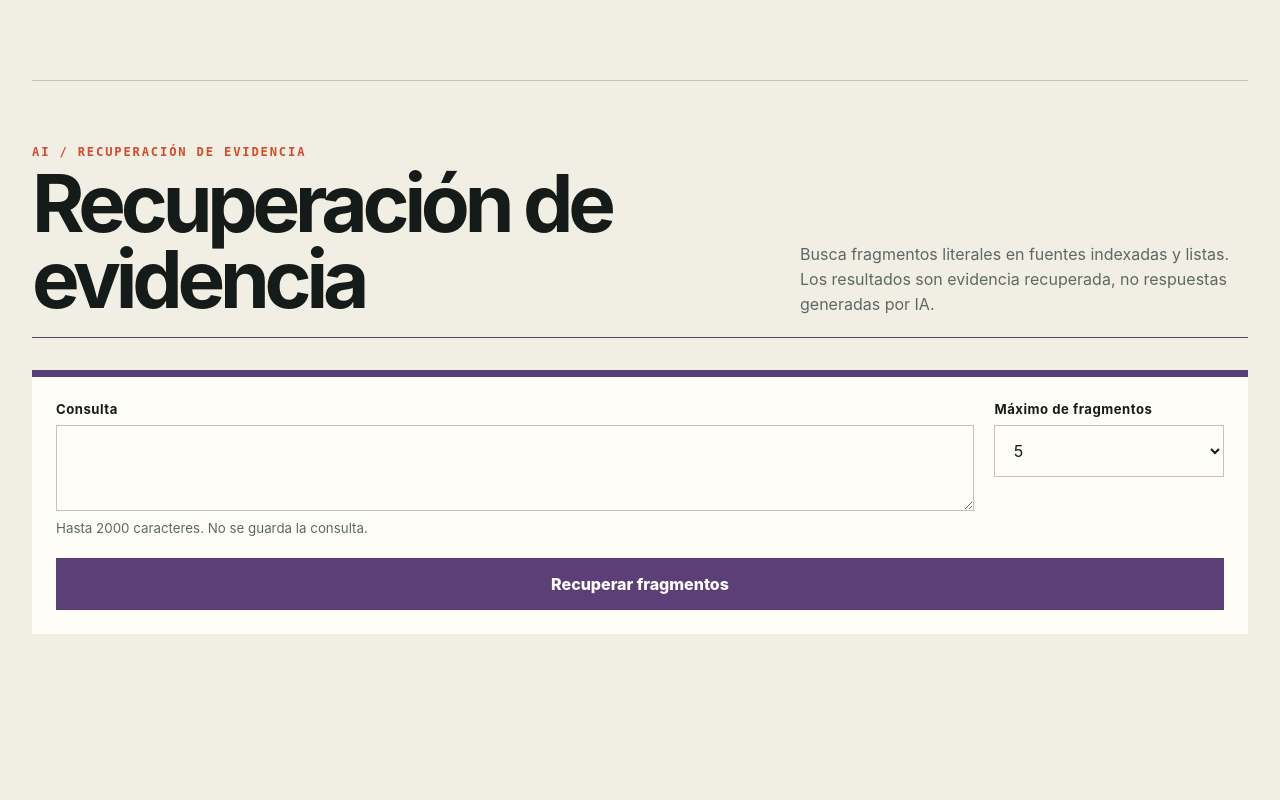
Scenario: AiRetrievalWorkspace › shows an empty state without fabricating evidence
This screenshot has width=1280, height=800.
Type "sin evidencia" into the text box labelled "Consulta" at (515, 468), box x1=56 y1=425 x2=974 y2=511
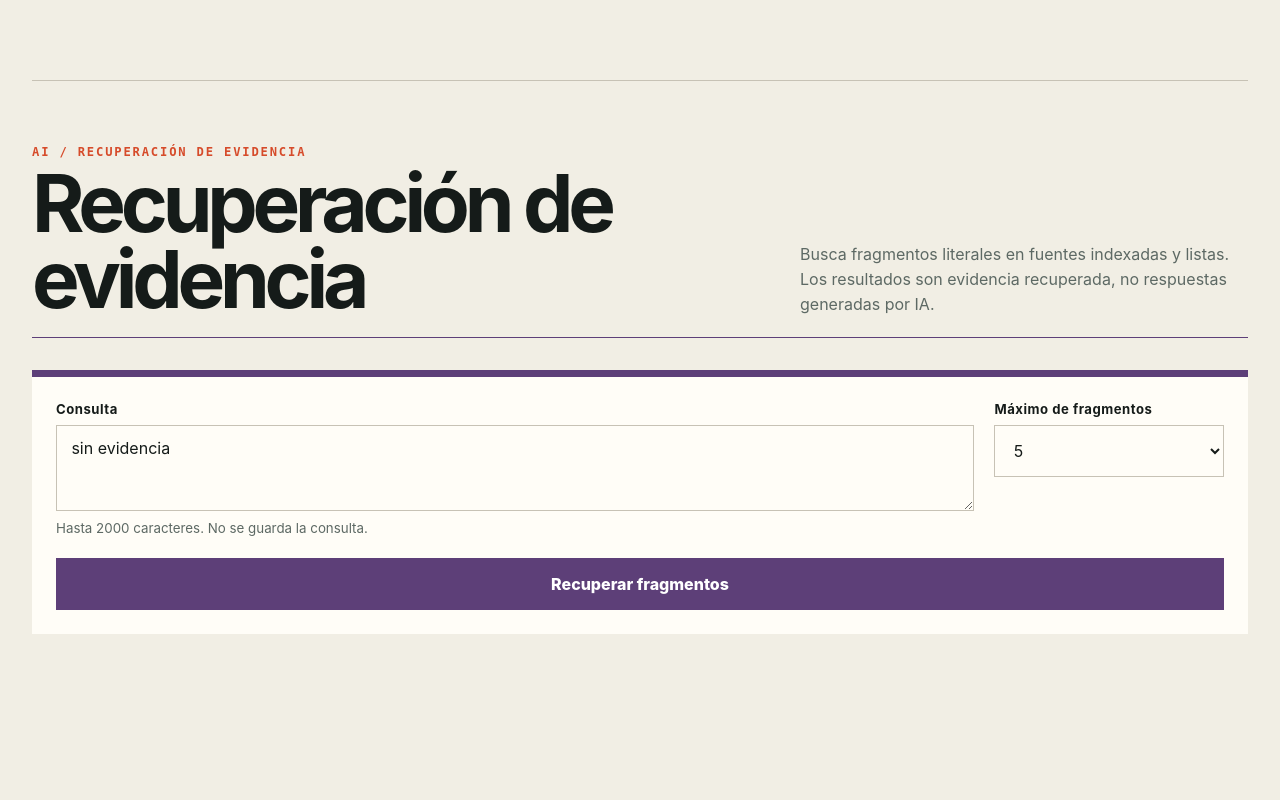
Submit the form named "Recuperar fragmentos", box x1=32 y1=370 x2=1248 y2=634
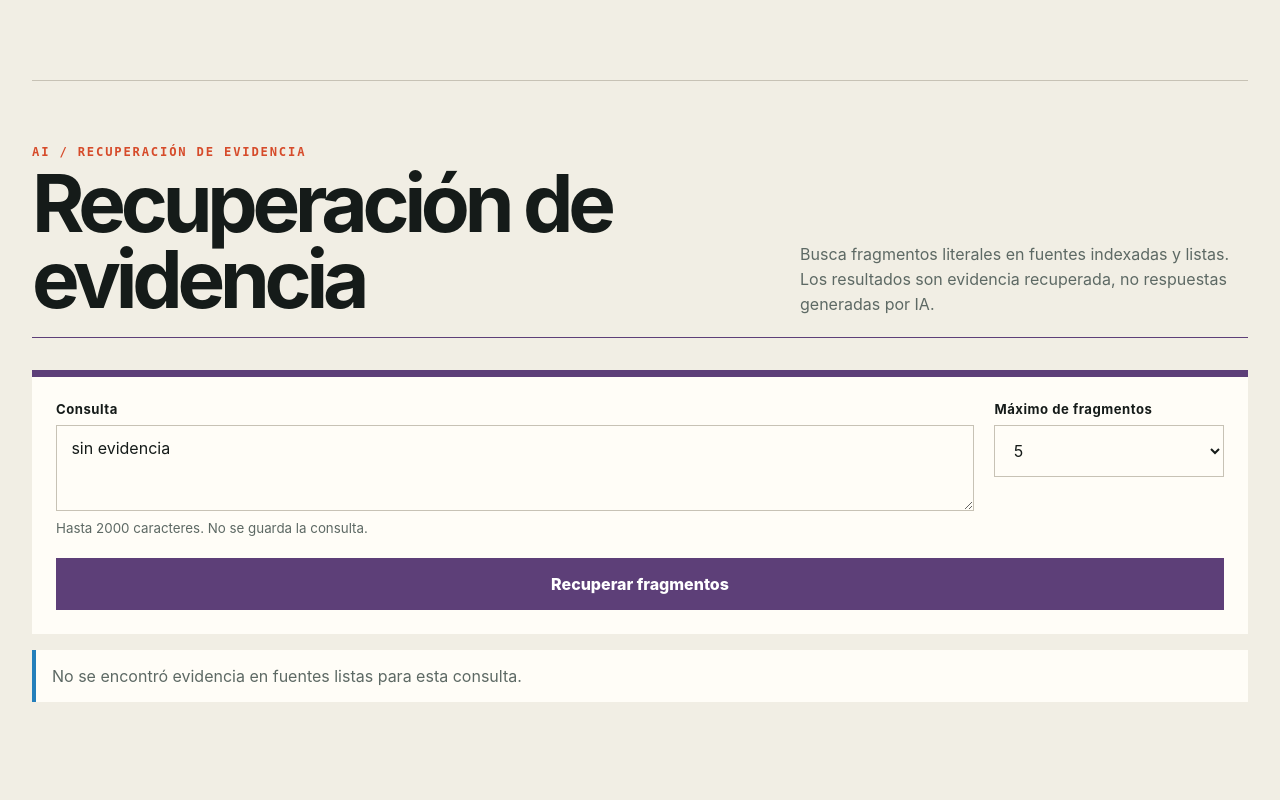
Expected: the text "No se encontró evidencia en fuentes listas para esta consulta." is shown, x1=32 y1=650 x2=1248 y2=702
